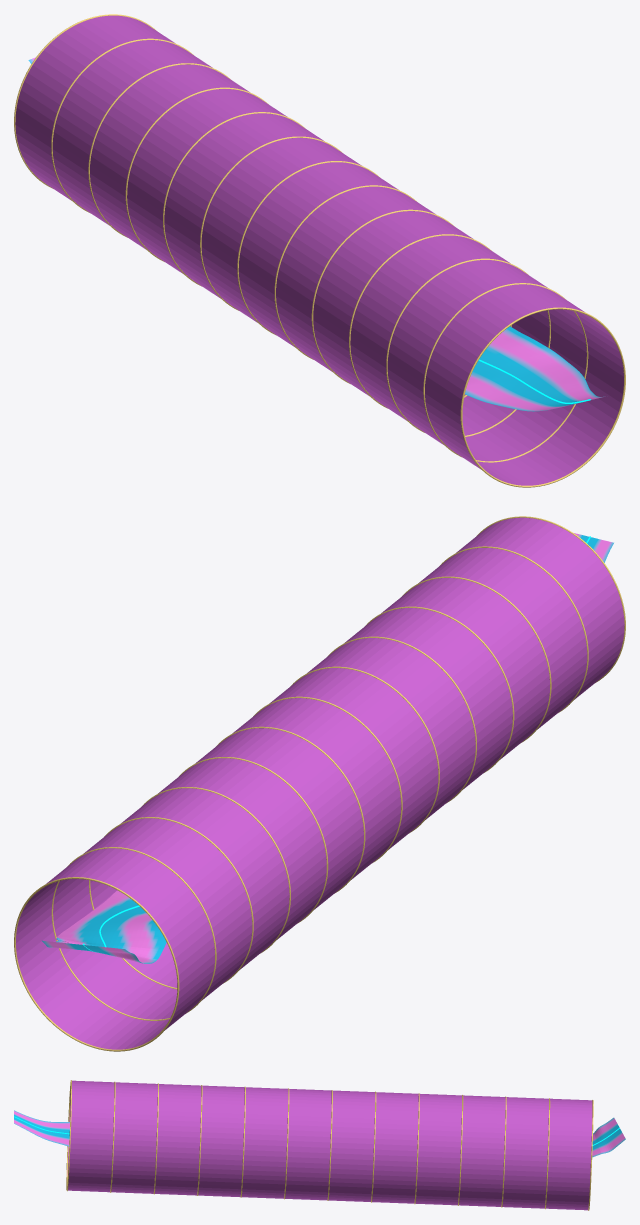
The model's file is screen05_layout.glb.
3 renders of one model, top to bottom at view 1: azimuth 30°, elevation 25°; view 2: azimuth 150°, elevation 25°; view 3: azimuth 270°, elevation 25°, orthographic. The views are drawn at different scales.
Parts seen in each view (by area): view 1: Tunnel05, River05, RingMark05_00, RingMark05_01, RingMark05_02; view 2: Tunnel05, River05, RingMark05_12, RingMark05_11, RingMark05_10; view 3: Tunnel05, River05, RingMark05_00, RingMark05_06, RingMark05_08, RingMark05_01, RingMark05_04, RingMark05_10, RingMark05_12, RingMark05_03, RingMark05_05, RingMark05_07.
Boxes of the visible parts, left/top/right/bottom form: Tunnel05: left=15, top=15, right=623, bottom=485; River05: left=28, top=57, right=605, bottom=411; RingMark05_00: left=460, top=307, right=625, bottom=487; RingMark05_01: left=423, top=283, right=588, bottom=462; RingMark05_02: left=386, top=258, right=550, bottom=436; Tunnel05: left=16, top=517, right=624, bottom=1049; River05: left=42, top=533, right=613, bottom=963; RingMark05_12: left=14, top=877, right=179, bottom=1051; RingMark05_11: left=51, top=847, right=216, bottom=1020; RingMark05_10: left=89, top=817, right=253, bottom=989; Tunnel05: left=67, top=1080, right=592, bottom=1210; River05: left=14, top=1110, right=625, bottom=1157; RingMark05_00: left=66, top=1080, right=71, bottom=1191; RingMark05_06: left=327, top=1090, right=332, bottom=1200; RingMark05_08: left=414, top=1093, right=419, bottom=1204; RingMark05_01: left=110, top=1081, right=115, bottom=1192; RingMark05_04: left=240, top=1086, right=245, bottom=1197; RingMark05_10: left=501, top=1096, right=506, bottom=1207; RingMark05_12: left=588, top=1100, right=593, bottom=1210; RingMark05_03: left=197, top=1085, right=202, bottom=1195; RingMark05_05: left=284, top=1088, right=289, bottom=1199; RingMark05_07: left=371, top=1091, right=376, bottom=1202.
Bounding box in the file's own units: 15.36 × 18.34 × 84.42.
